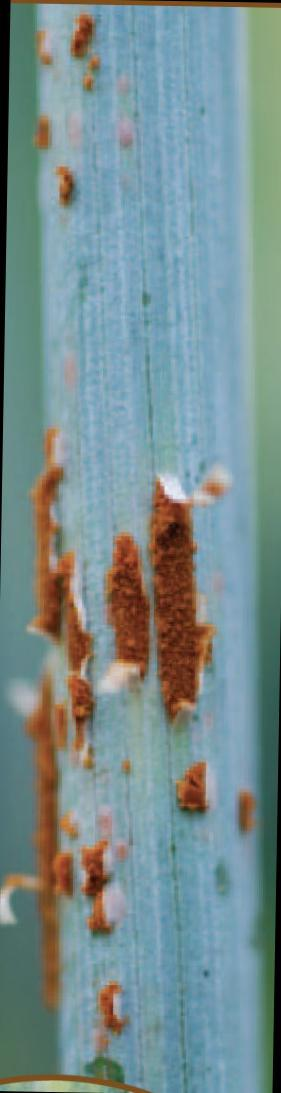Wheat: (23, 412, 262, 1044), (26, 12, 187, 234)
